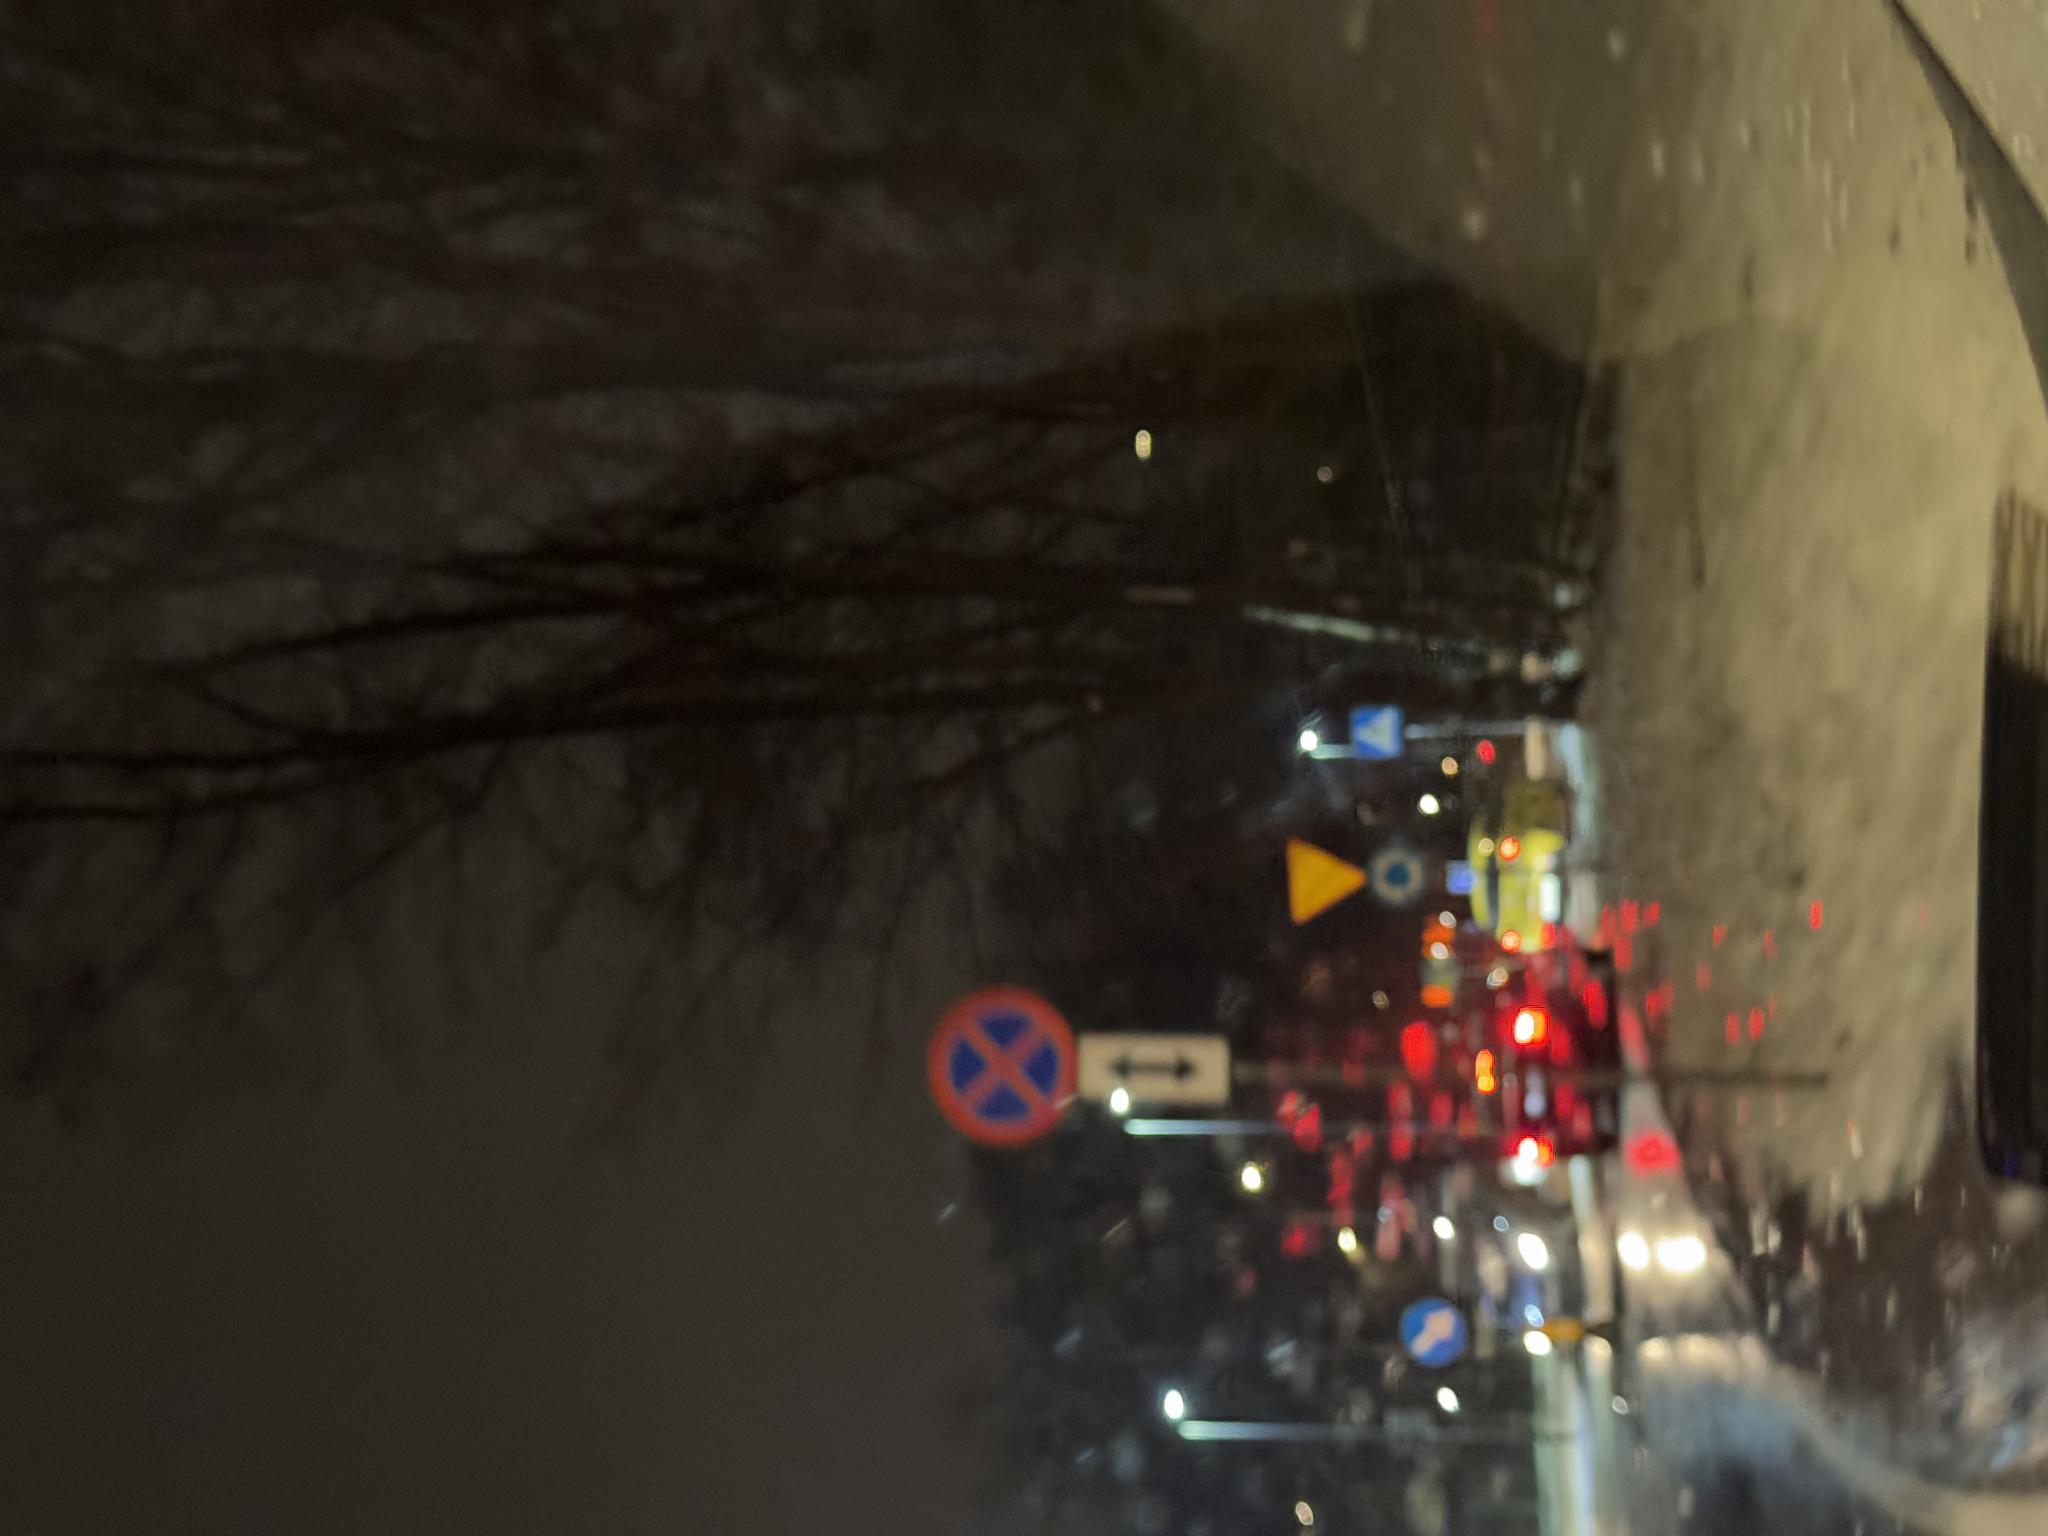information: (776, 1355, 830, 1404)
mandatory: (171, 1397, 245, 1470), (627, 1368, 693, 1433)
other: (435, 1081, 505, 1231)
prohibitory: (387, 925, 552, 1079)
warning: (608, 1283, 700, 1368)
